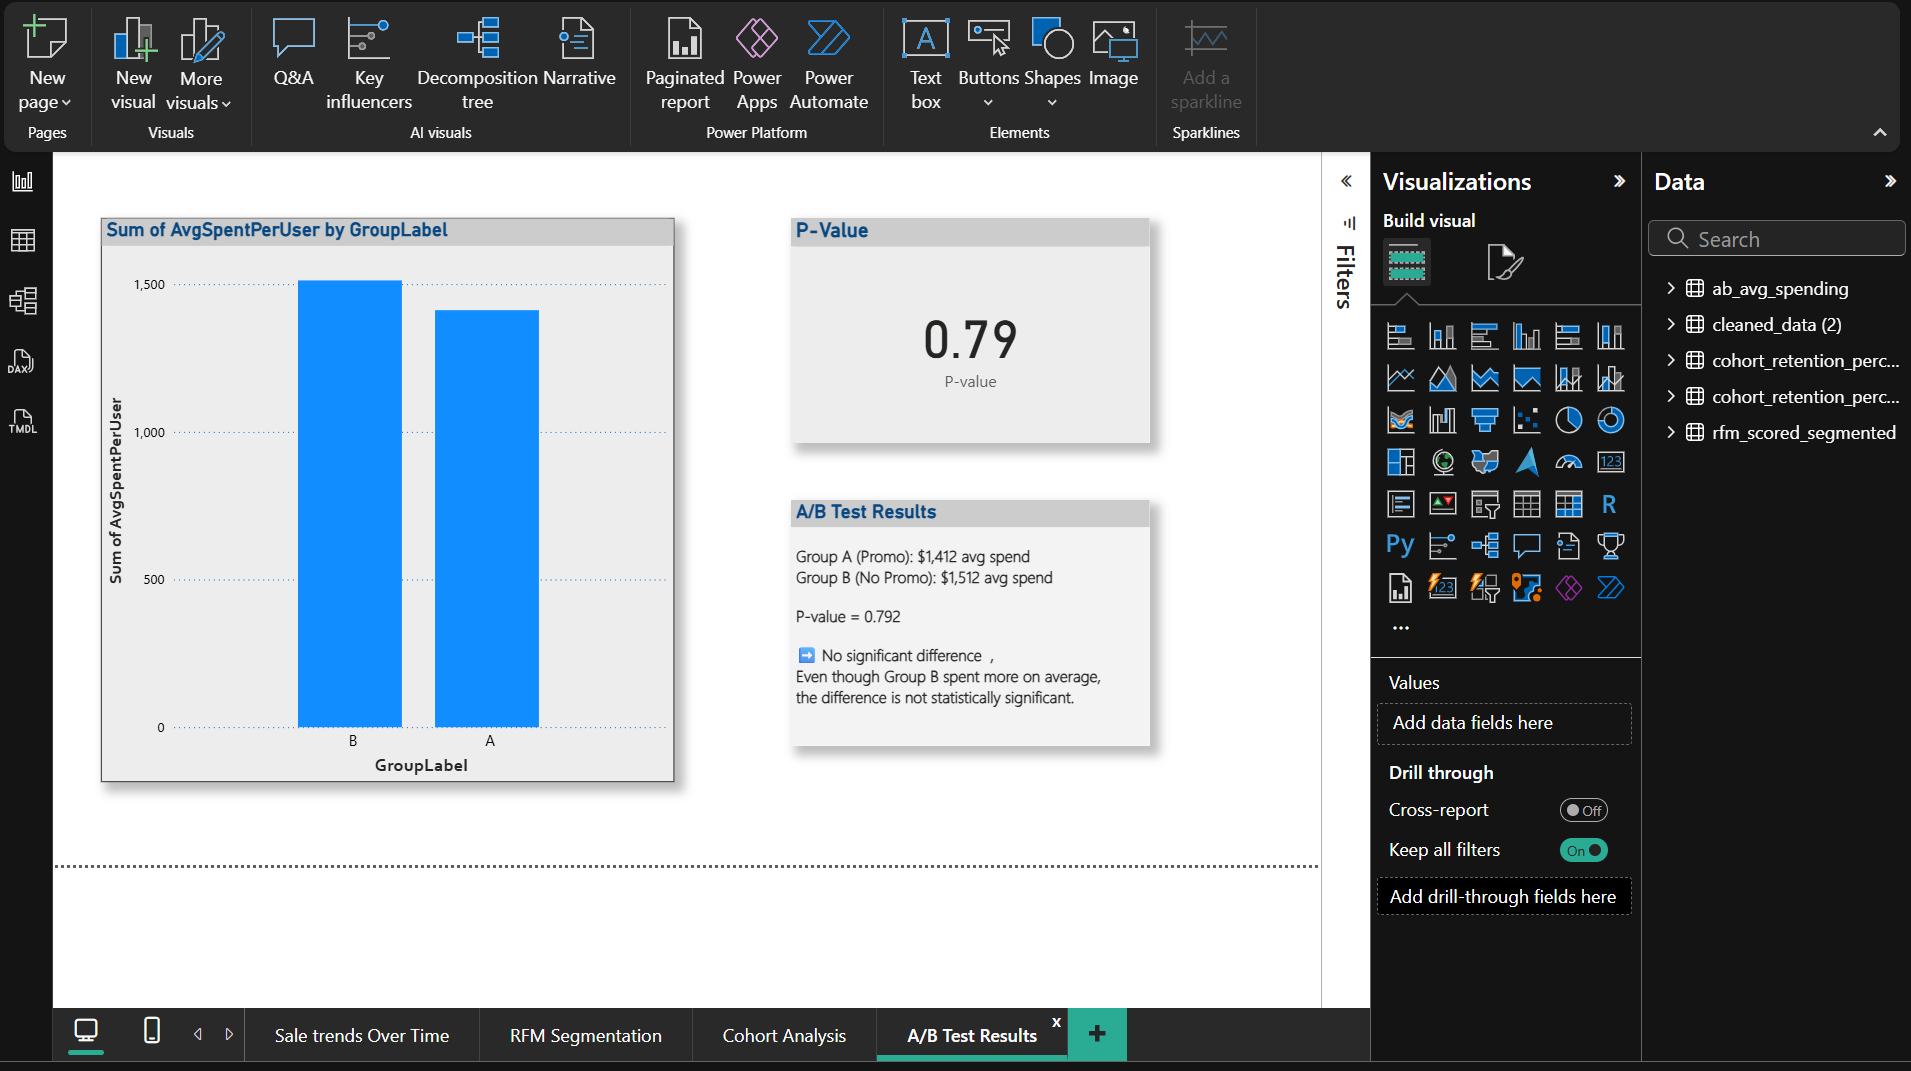

What the dashboard file says about the page in this screenshot:
{"tool":"powerbi","page":{"name":"A/B Test Results","canvas":[1280,720],"ordinal":3},"visuals":[{"type":"clusteredColumnChart","fields":{"Category":["ab_avg_spending.GroupLabel"],"Y":["Sum(ab_avg_spending.AvgSpentPerUser)"]},"box":[48.5,66.6,578.4,569.3],"z":0},{"type":"card","title":"P-Value","fields":{"Values":["ab_avg_spending.P-value"]},"box":[745,66.6,361.9,227.1],"z":1000},{"type":"textbox","title":"A/B Test Results","box":[745,351.3,361.9,248.3],"z":2000}]}

Visuals, with their boxes on the page's 1280x720 design canvas (x1, y1, x2, y2). These are canvas units, not pixel positions in the 1911x1071 screenshot, which may show the page scaled, cropped or inside an application window:
clusteredColumnChart - ab_avg_spending.GroupLabel x Sum(ab_avg_spending.AvgSpentPerUser): (48, 67, 627, 636)
"P-Value" card: (745, 67, 1107, 294)
"A/B Test Results" textbox: (745, 351, 1107, 600)
